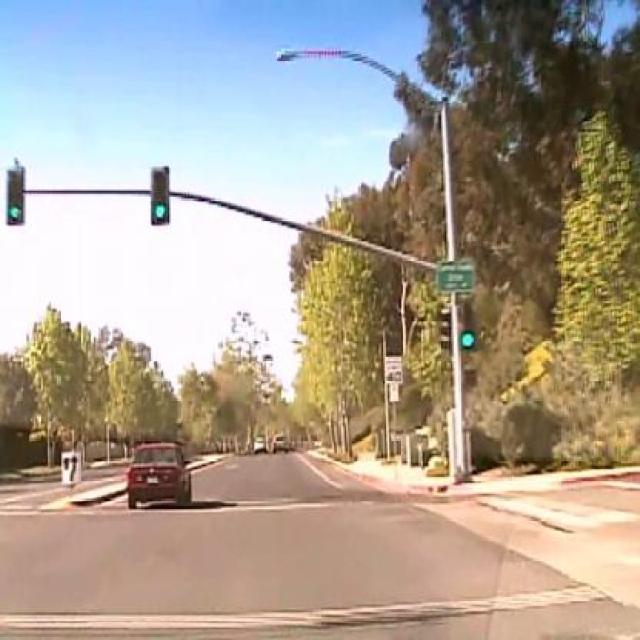keepRight: (61, 451, 80, 485)
speedLimit40: (383, 354, 403, 384)
